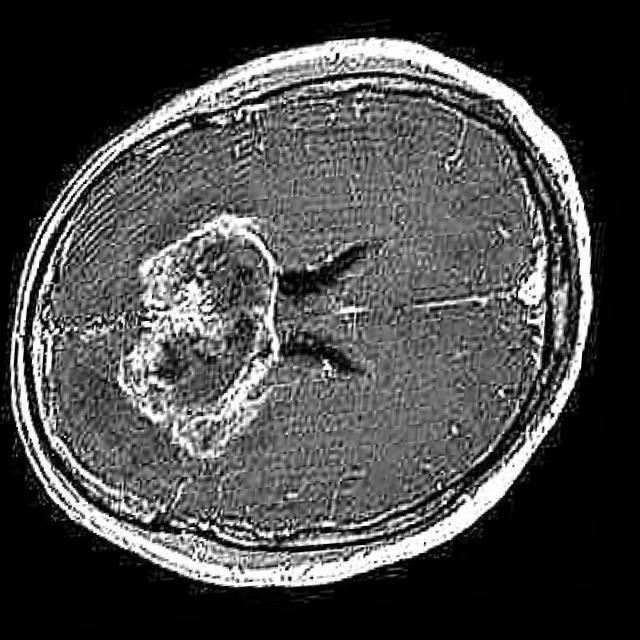Tumor: (123, 220, 282, 461)
